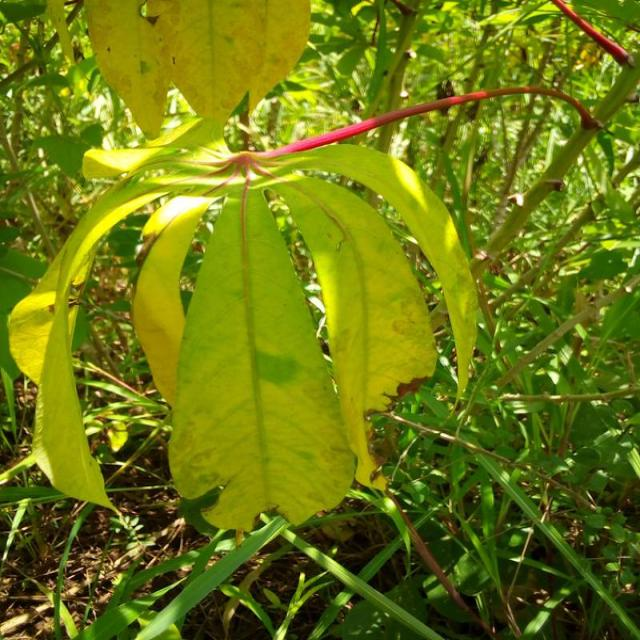cassava leaf: (11, 126, 479, 530), (166, 178, 357, 532), (262, 174, 438, 492)
